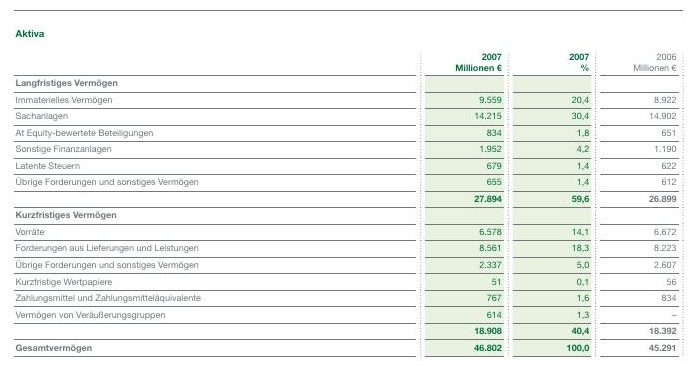table: (0, 0, 693, 367)
